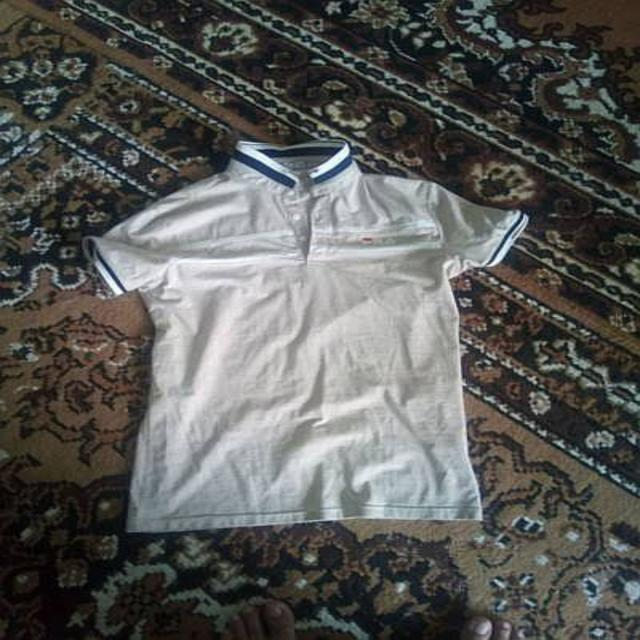T_SHIRT: (64, 130, 539, 533)
